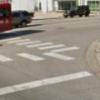cars: (62, 4, 90, 18), (12, 10, 32, 29)
